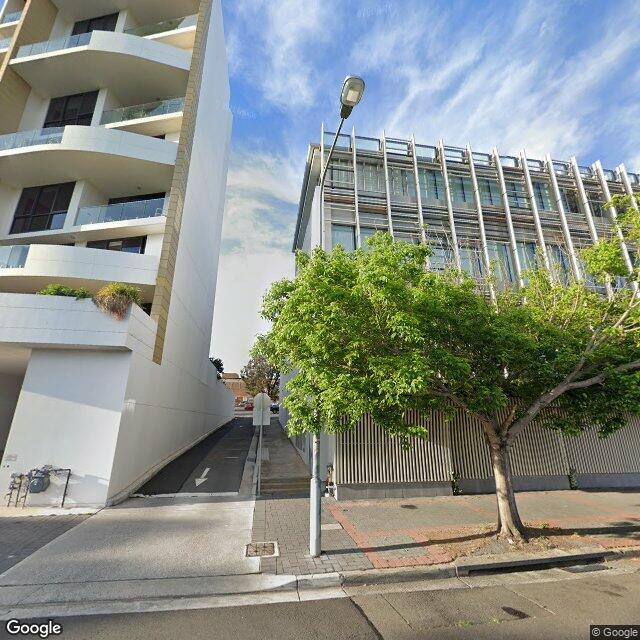steel-pole: (310, 190, 322, 556)
streetlight: (319, 74, 367, 194)
